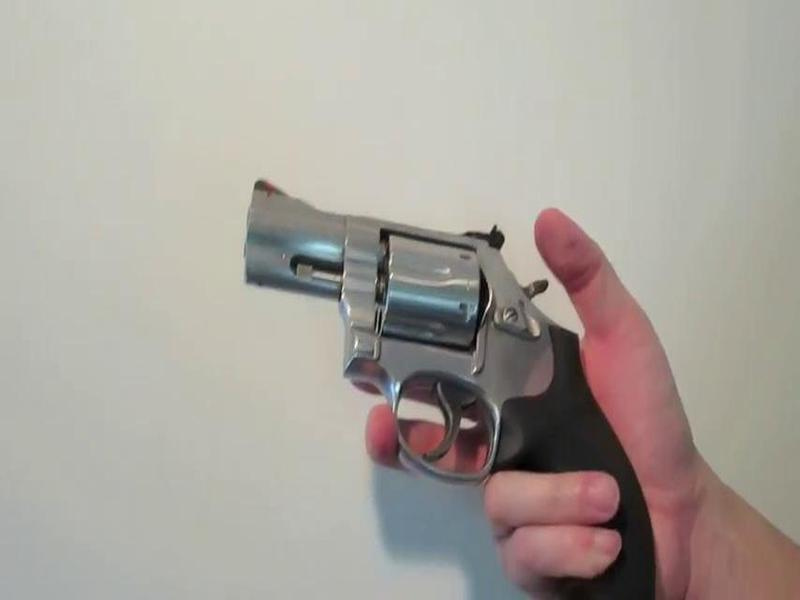Revolver: (219, 162, 688, 600)
